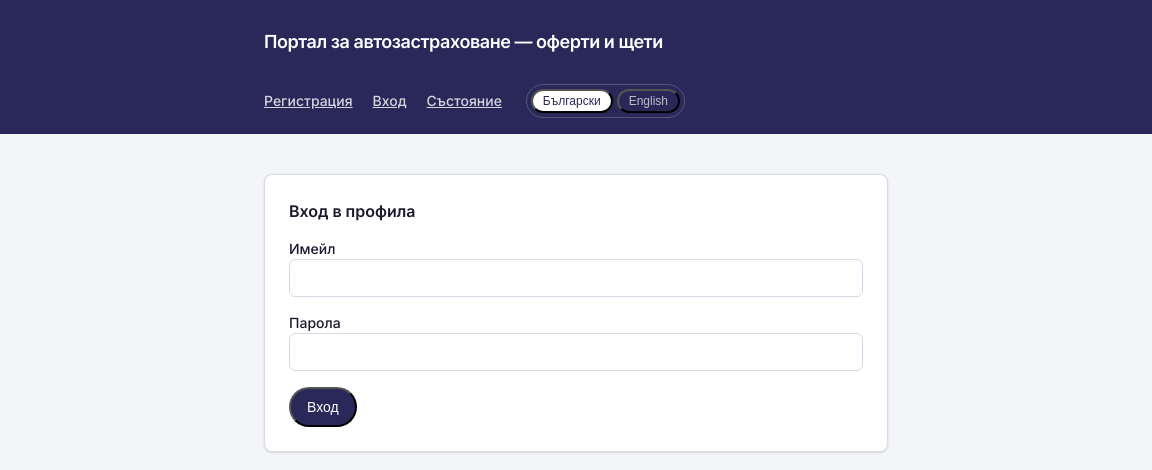
it: LanguageToggle › keeps the route and in-progress form state across a switch
This screenshot has width=1152, height=470.
Type "someone@example.com" into the field labelled "Имейл" at (576, 278), box x1=289 y1=259 x2=863 y2=297
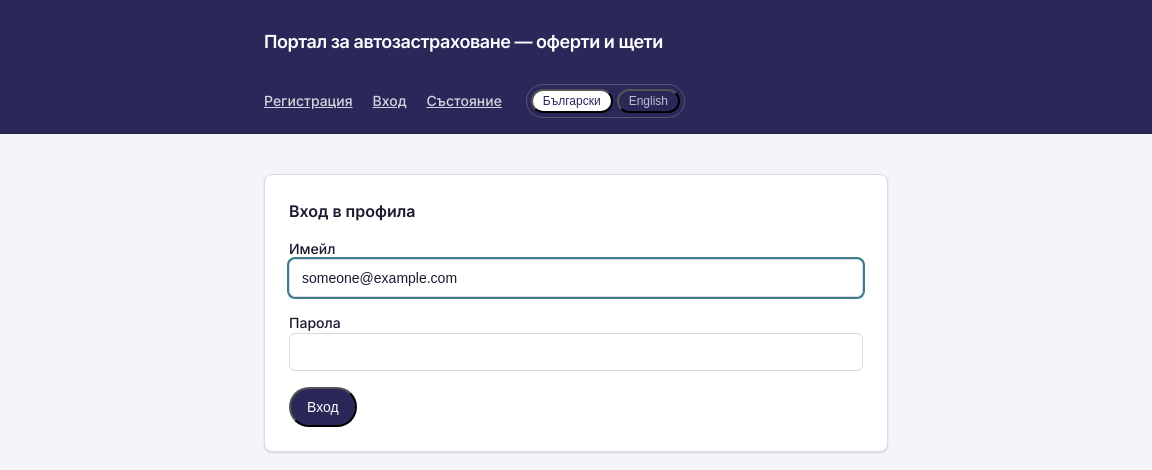
Click the button "English" at (648, 101), box x1=617 y1=89 x2=680 y2=113
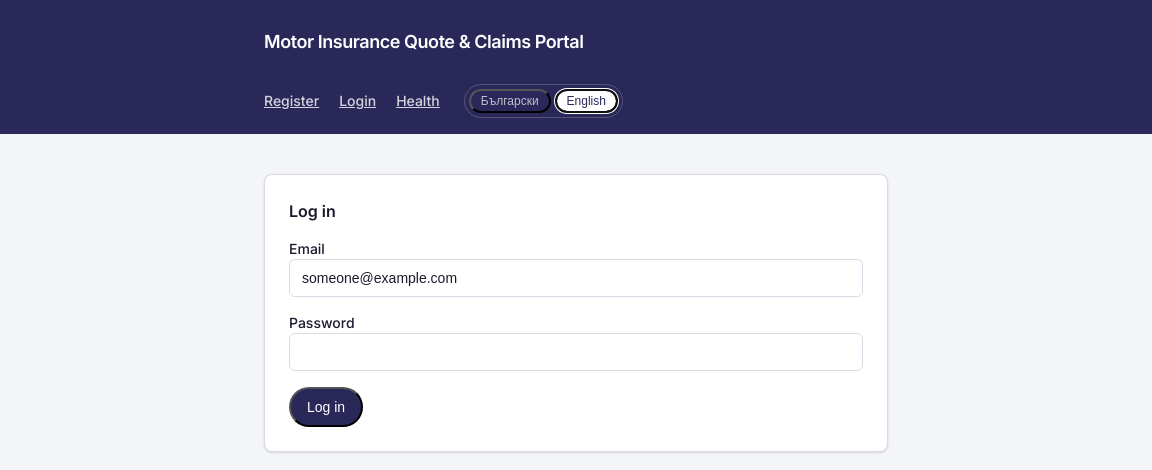
Now the heading "Motor Insurance Quote & Claims Portal" is shown, box x1=264 y1=28 x2=583 y2=56
Now the heading "Log in" is shown, box x1=289 y1=201 x2=336 y2=221
